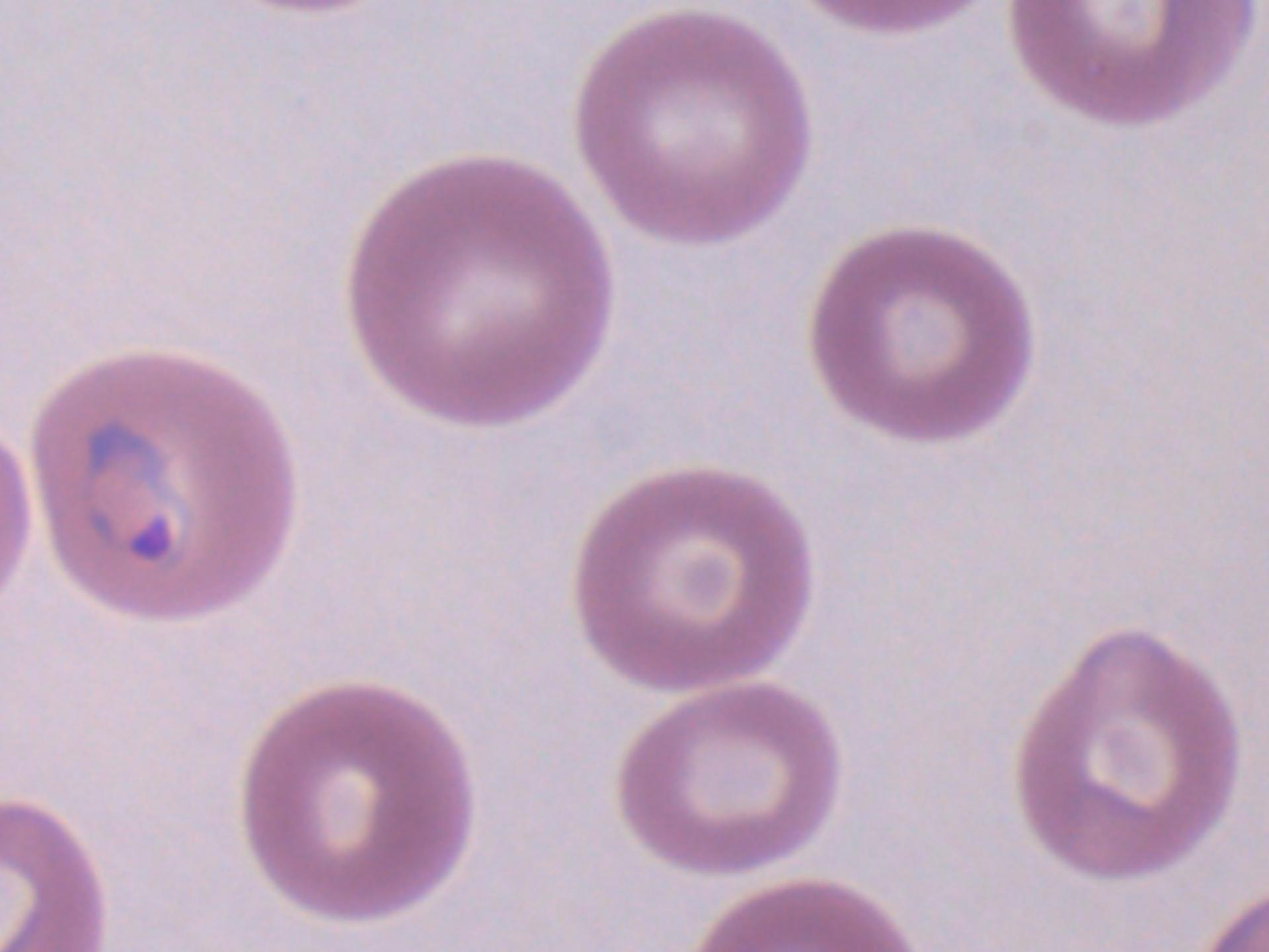Infected: (35, 355, 295, 620)
Uninfected: (350, 159, 618, 426), (1018, 635, 1241, 881), (245, 683, 474, 917), (575, 468, 812, 692), (582, 16, 809, 244), (815, 228, 1034, 441), (619, 690, 839, 873)
